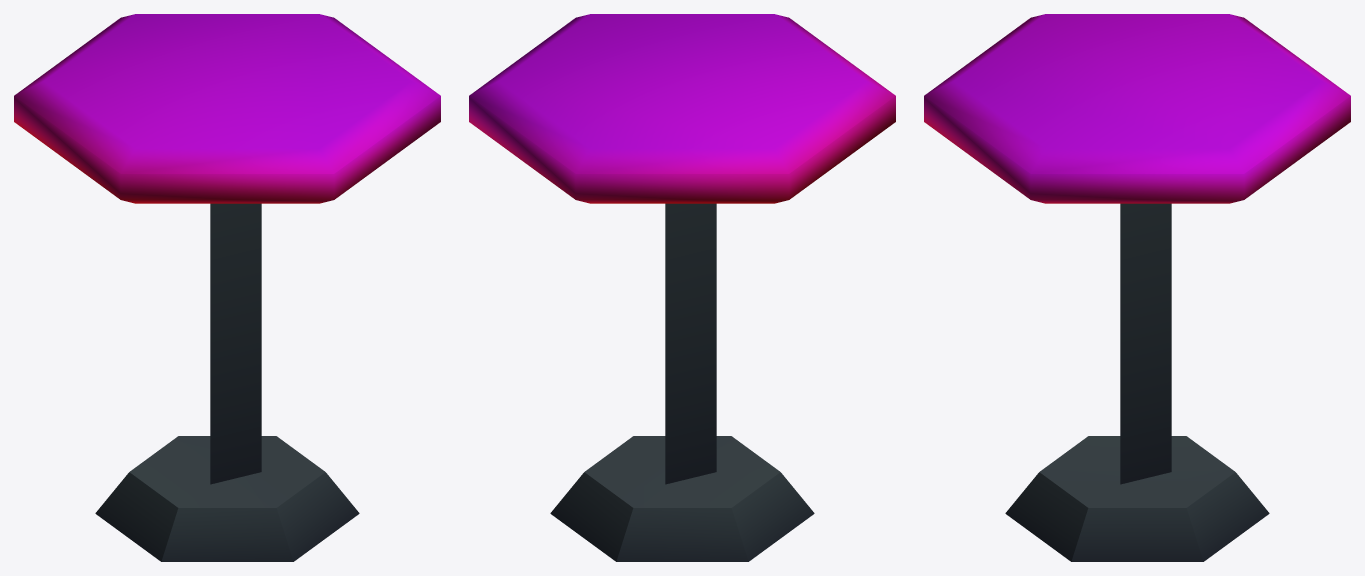
Rendered from bar chair1.fbx.
3 views of the same model, side by side, from view 1: azimuth 30°, elevation 25°; view 2: azimuth 150°, elevation 25°; view 3: azimuth 270°, elevation 25° (orthographic).
Parts seen in each view (by area): view 1: Cylinder.032; view 2: Cylinder.032; view 3: Cylinder.032.
Boxes of the visible parts, bbox=[...] form: Cylinder.032: bbox=[14, 14, 440, 561]; Cylinder.032: bbox=[469, 14, 895, 561]; Cylinder.032: bbox=[924, 14, 1350, 561].
Bounding box in the file's own units: 119 × 154 × 138.
